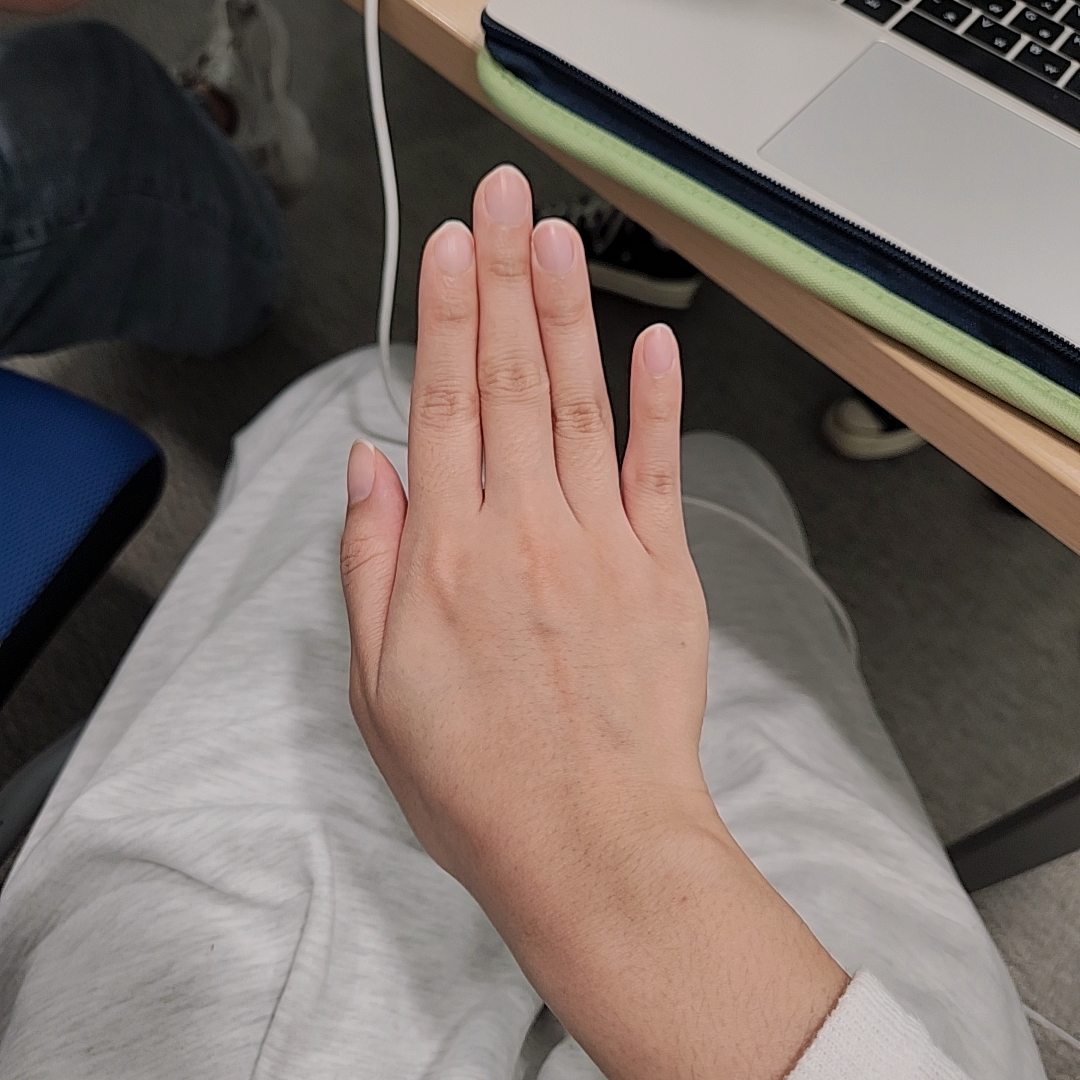me: (340, 160, 708, 875)
